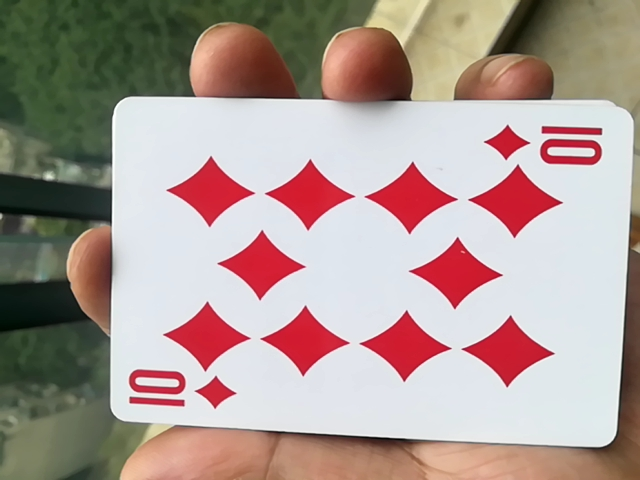fk 10: (91, 118, 635, 458)
